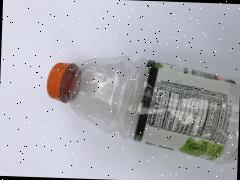plastic: (17, 24, 240, 180)
